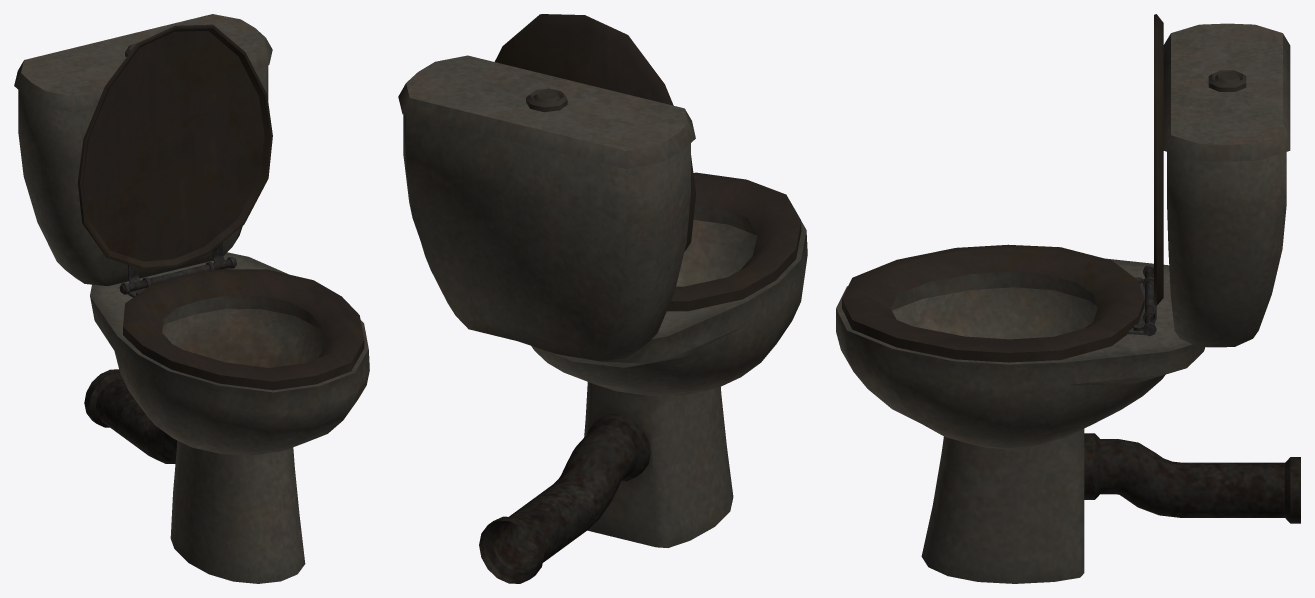
The model's file is toilet_mp_1_1.obj.
3 views of the same model, side by side, from view 1: azimuth 30°, elevation 25°; view 2: azimuth 150°, elevation 25°; view 3: azimuth 270°, elevation 25° (orthographic). The views are drawn at different scales.
Parts seen in each view (by area): view 1: toilet_mp_1_1, toilet_mp_1_1_lid; view 2: toilet_mp_1_1, toilet_mp_1_1_lid; view 3: toilet_mp_1_1, toilet_mp_1_1_lid.
Boxes of the visible parts, x1,y1,x2,y2 form: toilet_mp_1_1: (14, 14, 369, 583); toilet_mp_1_1_lid: (77, 24, 272, 294); toilet_mp_1_1: (398, 55, 807, 583); toilet_mp_1_1_lid: (494, 14, 695, 251); toilet_mp_1_1: (836, 23, 1300, 583); toilet_mp_1_1_lid: (1143, 14, 1163, 336).
Bounding box in the file's own units: 0.5728 × 1.11 × 0.8822.
